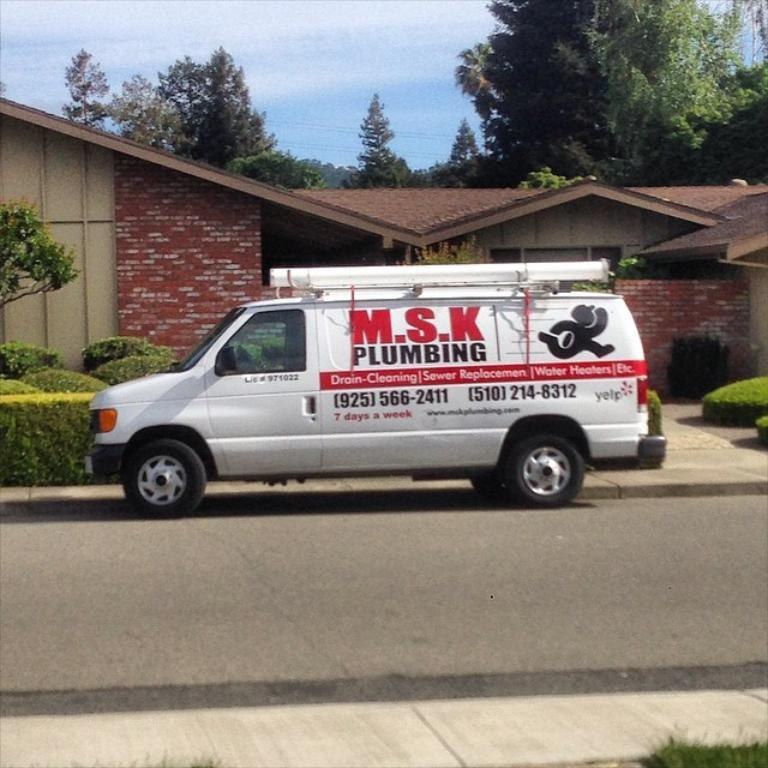vehicle: (83, 284, 668, 518)
